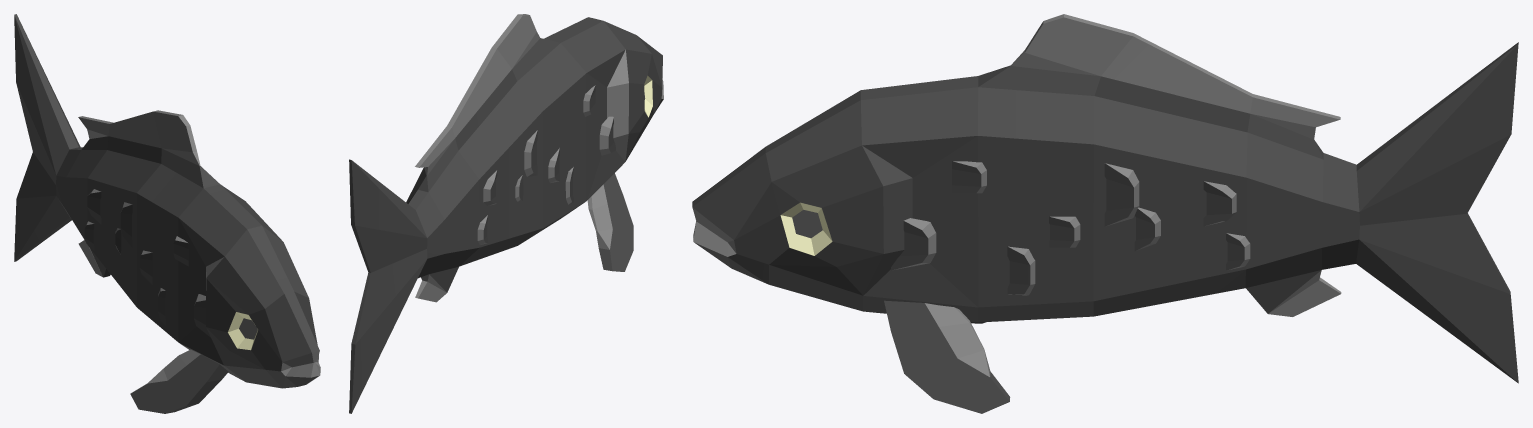
Rendered from Trout.FBX.
The picture shows the model from 3 angles, left to right: view 1: azimuth 30°, elevation 25°; view 2: azimuth 150°, elevation 25°; view 3: azimuth 270°, elevation 25°; orthographic projection. The views are drawn at different scales.
Parts seen in each view (by area): view 1: fish_5; view 2: fish_5; view 3: fish_5.
Boxes of the visible parts, left/top/right/bottom form: fish_5: left=14, top=14, right=320, bottom=413; fish_5: left=349, top=14, right=663, bottom=413; fish_5: left=692, top=14, right=1518, bottom=413.
Bounding box in the file's own units: 25.35 × 44.9 × 91.58.
